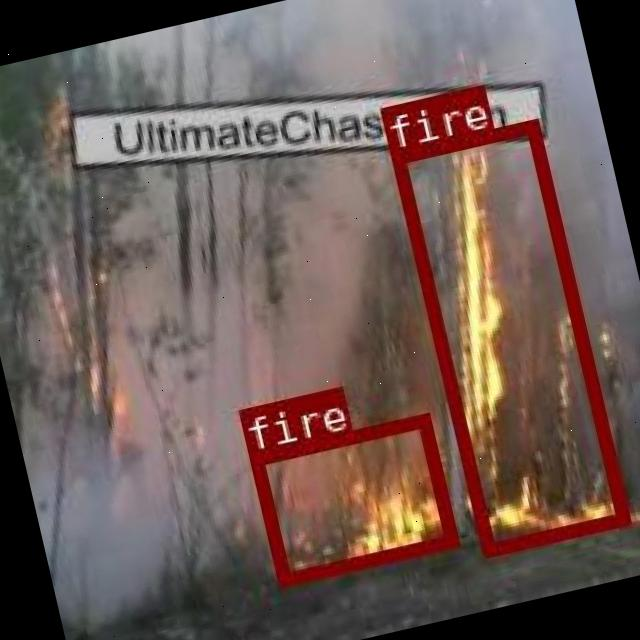fire: (388, 117, 628, 556), (246, 410, 456, 584)
